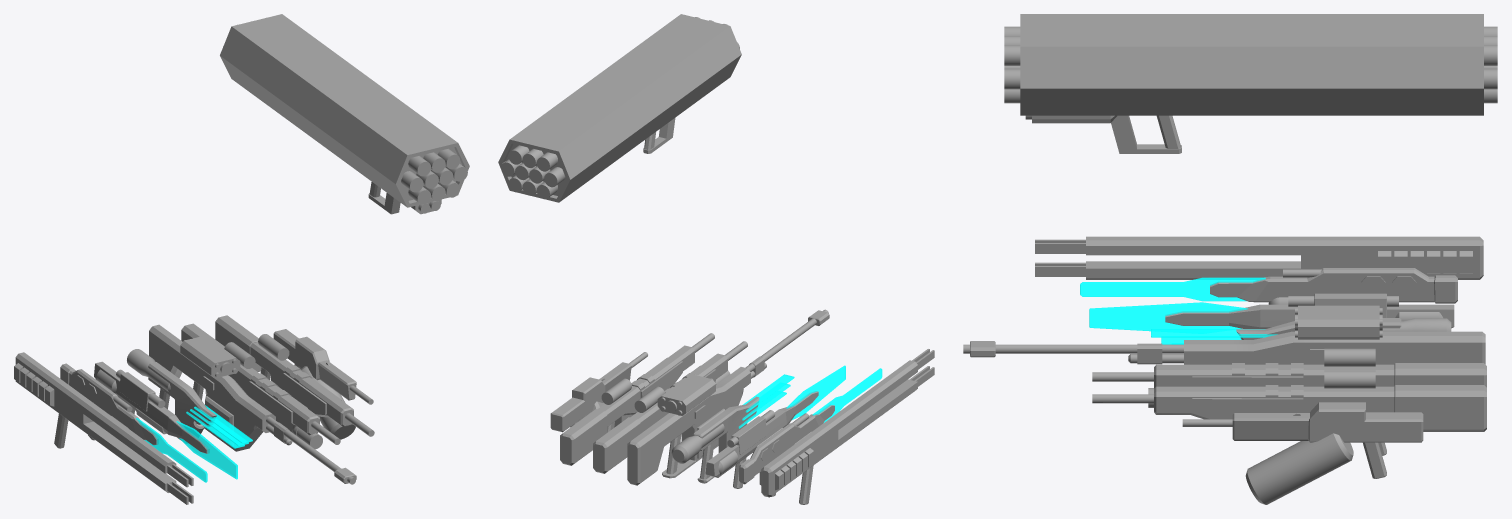
File: Mech Weapons.fbx
The picture shows the model from 3 angles, left to right: view 1: azimuth 30°, elevation 25°; view 2: azimuth 150°, elevation 25°; view 3: azimuth 270°, elevation 25°; orthographic projection. The views are drawn at different scales.
Visible parts, largest first — view 1: pCube27, pCube32, pCube12, pCube1, pCube22, pCube45, pCube7, pCube19, pCube14, polySurface2, pCube8, polySurface1 (+6 smaller); view 2: pCube27, pCube32, pCube12, pCube1, pCube22, pCube45, polySurface2, pCube7, pCube19, pCube14, pCube8, pCylinder15 (+4 smaller); view 3: pCube27, pCube32, pCube1, pCube12, pCube22, pCube45, pCylinder4, polySurface2, pCube7, pCube14, pCube8, pCube43 (+13 smaller).
Part boxes in pixels (box(x1,y1,x2,y2)): pCube27: box(220, 14, 469, 207); pCube32: box(15, 352, 176, 492); pCube12: box(149, 324, 275, 451); pCube1: box(215, 315, 353, 426); pCube22: box(181, 323, 319, 435); pCube45: box(60, 363, 158, 445); pCube7: box(94, 361, 209, 453); pCube19: box(148, 362, 216, 440); pCube14: box(180, 335, 240, 378); polySurface2: box(273, 329, 329, 380); pCube8: box(176, 421, 237, 479); polySurface1: box(318, 360, 356, 400); pCube27: box(498, 14, 741, 202); pCube32: box(761, 360, 917, 497); pCube12: box(627, 367, 750, 485); pCube1: box(560, 345, 694, 465); pCube22: box(593, 353, 727, 473); pCube45: box(739, 405, 834, 484); polySurface2: box(550, 377, 605, 432); pCube7: box(705, 391, 818, 477); pCube19: box(692, 396, 759, 483); pCube14: box(657, 374, 715, 415); pCube8: box(786, 365, 845, 419); pCylinder15: box(671, 424, 724, 463); pCube27: box(1020, 14, 1483, 115); pCube32: box(1086, 236, 1483, 279); pCube1: box(1154, 385, 1486, 431); pCube12: box(1184, 331, 1485, 364); pCube22: box(1154, 363, 1486, 388); pCube45: box(1210, 268, 1457, 303); pCylinder4: box(1245, 433, 1353, 504); polySurface2: box(1308, 402, 1423, 442); pCube7: box(1165, 304, 1454, 328); pCube14: box(1298, 305, 1379, 339); pCube8: box(1089, 302, 1247, 331); pCube43: box(1080, 277, 1265, 301).
Size of the model in its own units: 16.77 by 20.25 by 20.75.
